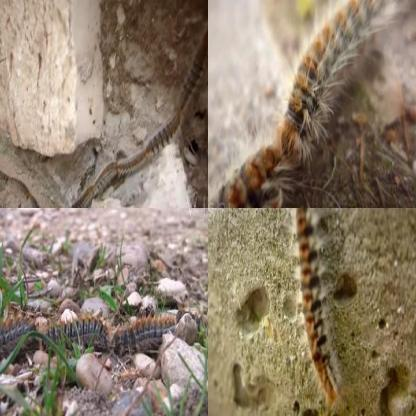armyworm: (283, 0, 397, 167), (292, 206, 347, 400), (212, 140, 289, 208), (40, 302, 114, 365), (177, 15, 209, 121), (112, 310, 179, 358), (140, 105, 185, 160), (1, 317, 40, 359), (111, 146, 152, 181), (92, 156, 121, 194), (68, 188, 100, 209)
